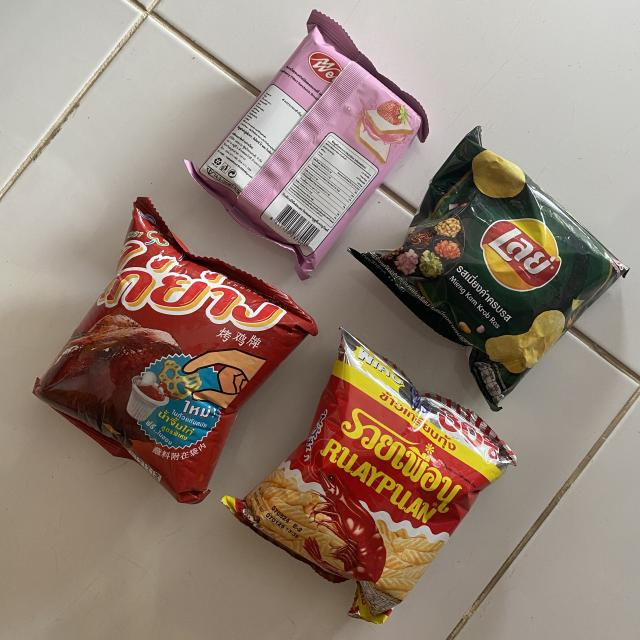plastik: (34, 198, 318, 504), (222, 329, 515, 624), (350, 126, 629, 410), (186, 10, 429, 279)
